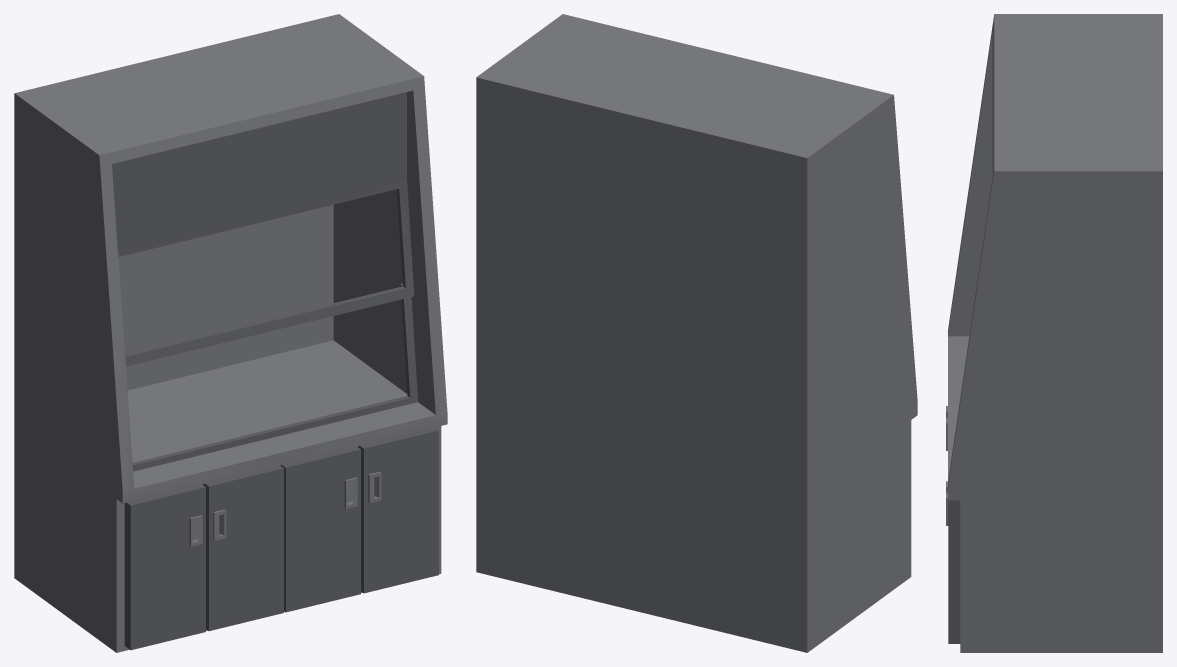
The model's file is fume-hood.fbx.
3 views of the same model, side by side, from view 1: azimuth 30°, elevation 25°; view 2: azimuth 150°, elevation 25°; view 3: azimuth 270°, elevation 25° (orthographic). The views are drawn at different scales.
Visible parts, largest first — view 1: fume_hood, RR_door, RL_door, LL_door, LR_door; view 2: fume_hood; view 3: fume_hood, LL_door.
Boxes of the visible parts, x1,y1,x2,y2 form: fume_hood: [14, 14, 447, 652]; RR_door: [124, 484, 205, 650]; RL_door: [203, 465, 283, 631]; LL_door: [358, 427, 438, 593]; LR_door: [280, 446, 360, 612]; fume_hood: [476, 14, 917, 652]; fume_hood: [948, 14, 1162, 652]; LL_door: [946, 492, 960, 643].
Bounding box in the file's own units: 179 × 255 × 104.
